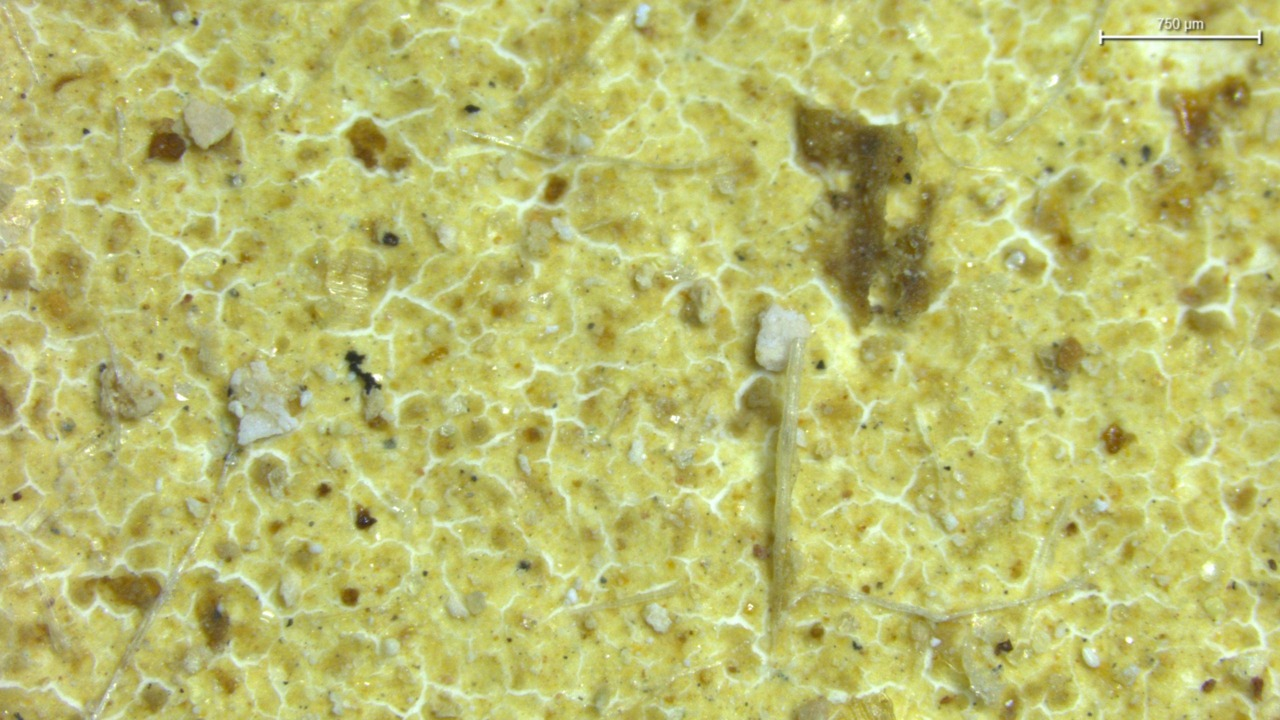microplastic_fragment: (228, 361, 299, 445), (755, 303, 810, 371), (184, 99, 234, 148)
